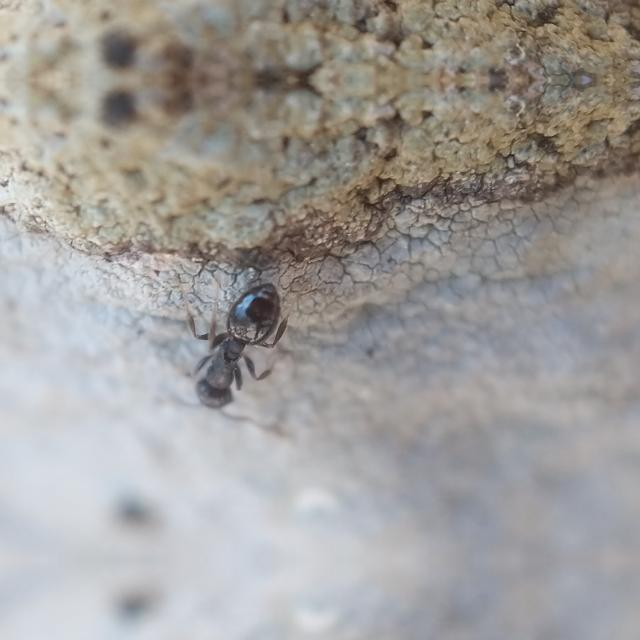Temnothorax: (164, 265, 316, 425)
